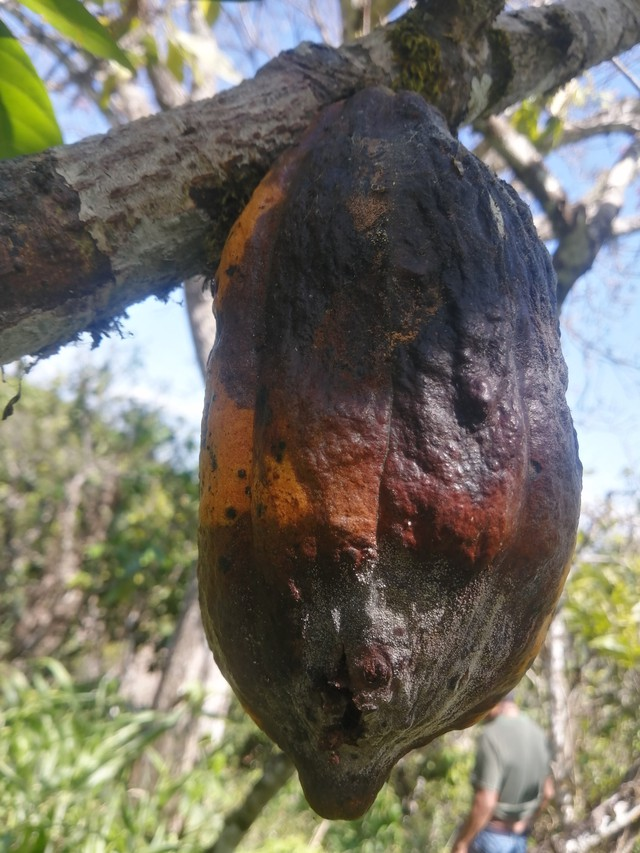moniliophthora roreri: (162, 71, 595, 828)
